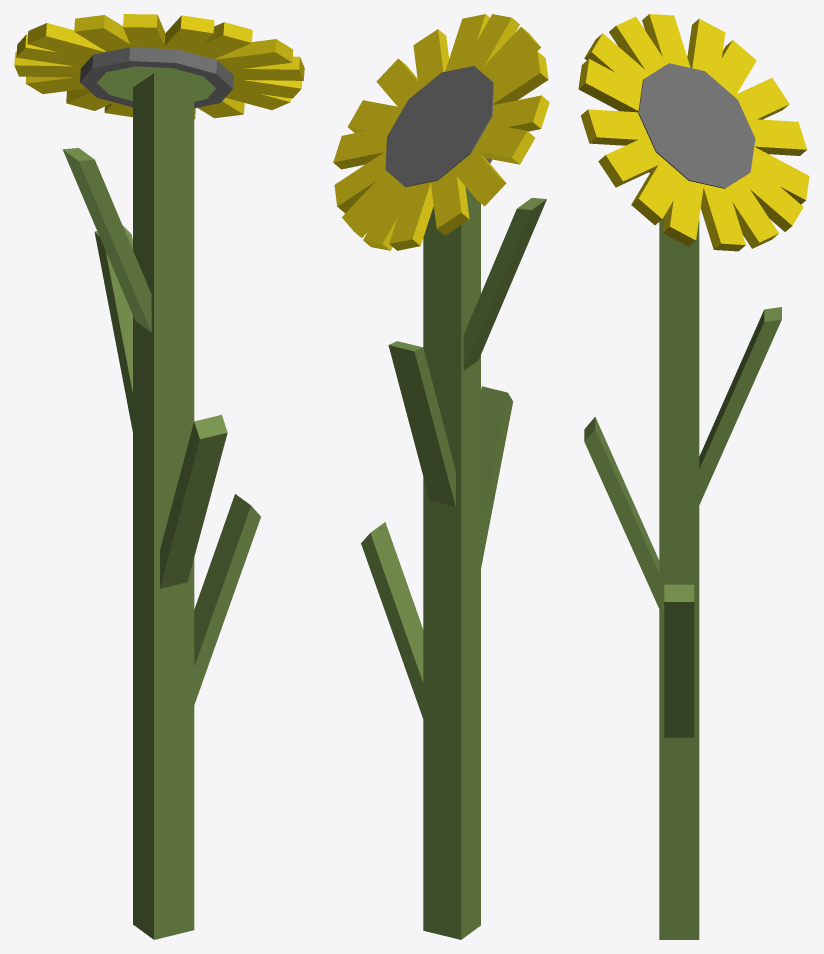
Rendered from herb9.fbx.
3 renders of one model, left to right at view 1: azimuth 30°, elevation 25°; view 2: azimuth 150°, elevation 25°; view 3: azimuth 270°, elevation 25°, orthographic. The views are drawn at different scales.
Parts seen in each view (by area): view 1: Cube; view 2: Cube; view 3: Cube.
Part boxes in pixels (x1,y1,x2,y2): Cube: (14,14,304,939); Cube: (333,14,549,939); Cube: (578,14,809,939).
Size of the model in its own units: 28.71 by 109 by 25.74.
